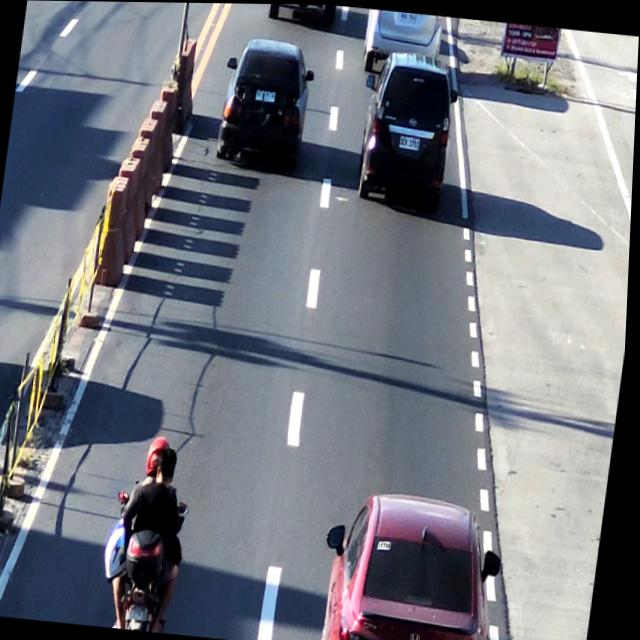Car: (320, 486, 507, 640), (359, 52, 456, 207), (217, 32, 313, 164)
License-Plate: (129, 603, 156, 622), (397, 133, 424, 151), (252, 87, 279, 103)
Motorcycle: (105, 435, 199, 633)
